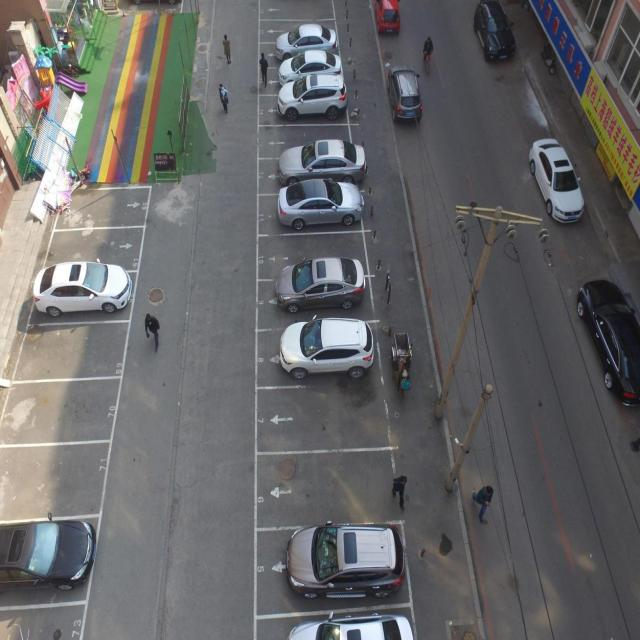p3rson: (471, 484, 493, 524), (144, 312, 160, 351), (391, 474, 407, 511), (216, 83, 228, 114), (258, 52, 268, 89), (222, 34, 231, 64), (423, 36, 433, 62), (220, 84, 227, 99)
